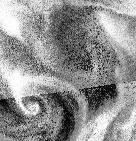CE: (8, 73, 59, 129)
